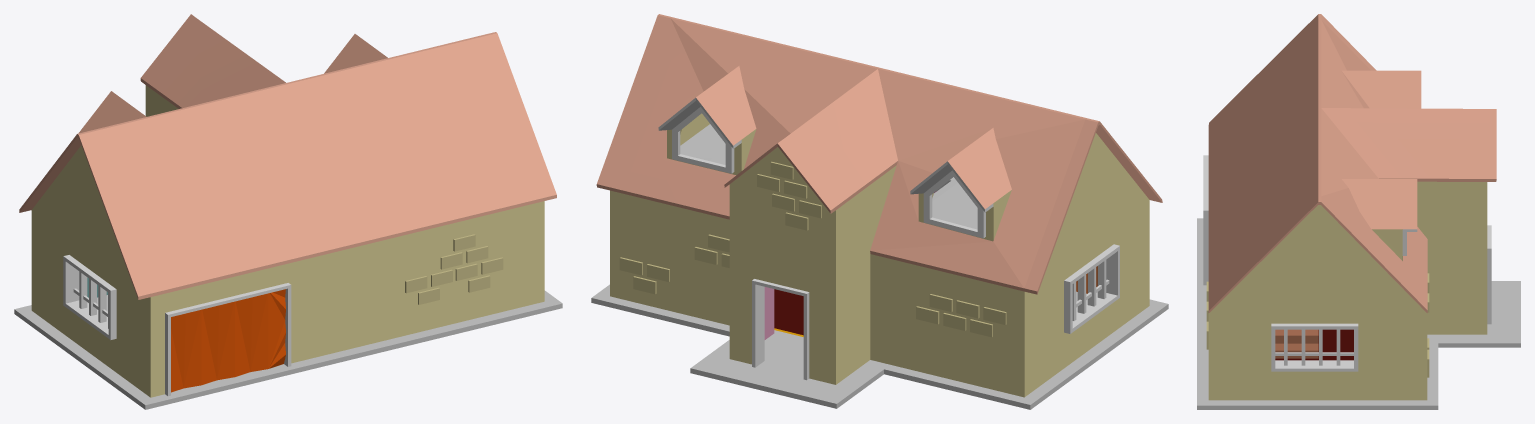
File: House2.fbx
The picture shows the model from 3 angles, left to right: view 1: azimuth 30°, elevation 25°; view 2: azimuth 150°, elevation 25°; view 3: azimuth 270°, elevation 25°; orthographic projection. The views are drawn at different scales.
Parts seen in each view (by area): view 1: House2, GarageDoor; view 2: House2; view 3: House2.
Part boxes in pixels (bbox=[...]): House2: bbox=[14, 14, 562, 409]; GarageDoor: bbox=[171, 289, 285, 392]; House2: bbox=[591, 14, 1168, 409]; House2: bbox=[1197, 14, 1520, 409].
Size of the model in its own units: 11.78 by 8.59 by 6.1.
